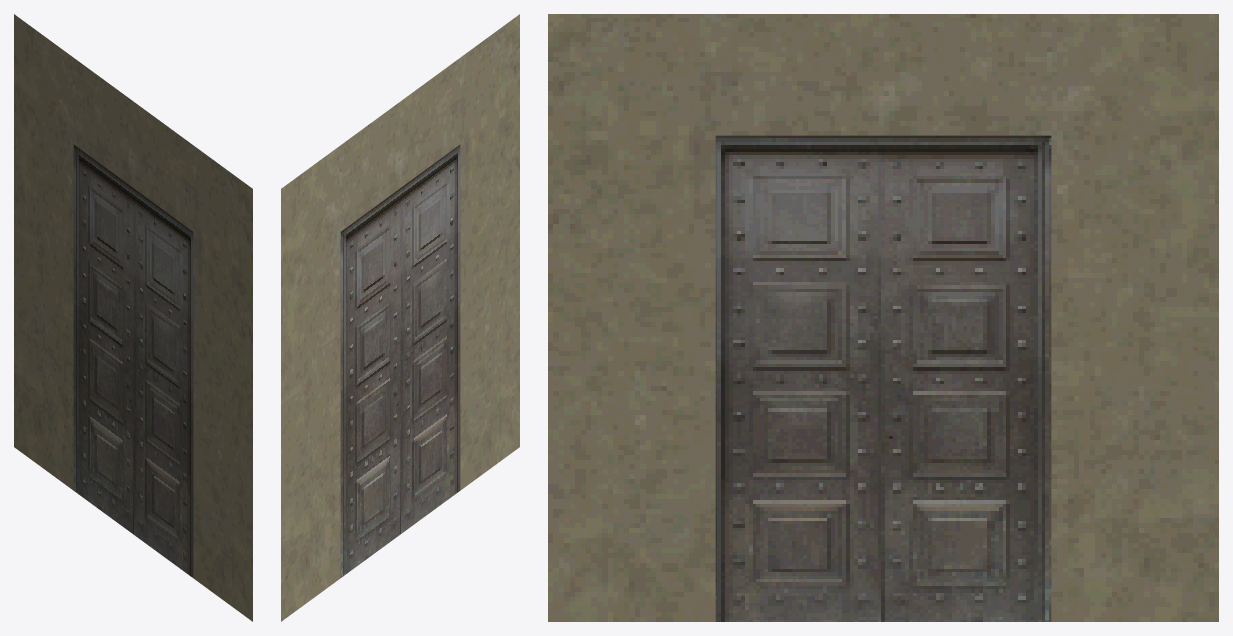
File: stuco_wall_metal_door.glb
3 renders of one model, left to right at view 1: azimuth 30°, elevation 25°; view 2: azimuth 150°, elevation 25°; view 3: azimuth 270°, elevation 25°, orthographic. The views are drawn at different scales.
Parts seen in each view (by area): view 1: stuco_wall_metal_door; view 2: stuco_wall_metal_door; view 3: stuco_wall_metal_door.
Part boxes in pixels (box(x1,y1,x2,y2)): stuco_wall_metal_door: box(14, 14, 252, 621); stuco_wall_metal_door: box(281, 14, 519, 621); stuco_wall_metal_door: box(548, 14, 1218, 621).
Bounding box in the file's own units: 0 × 3 × 3.
Materials: 1 (1 with a texture image).
